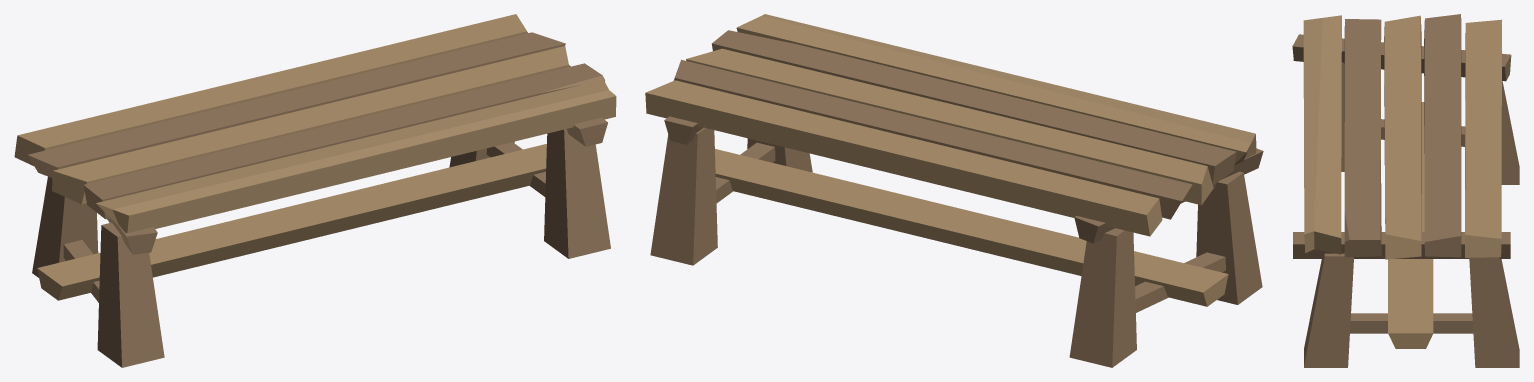
Rendered from WoodTable.fbx.
3 views of the same model, side by side, from view 1: azimuth 30°, elevation 25°; view 2: azimuth 150°, elevation 25°; view 3: azimuth 270°, elevation 25° (orthographic). The views are drawn at different scales.
Visible parts, largest first — view 1: Table; view 2: Table; view 3: Table.
Part boxes in pixels (x1,y1,x2,y2): Table: [14, 14, 616, 367]; Table: [645, 14, 1263, 367]; Table: [1292, 14, 1519, 367].
Bounding box in the file's own units: 503 × 140 × 209.
